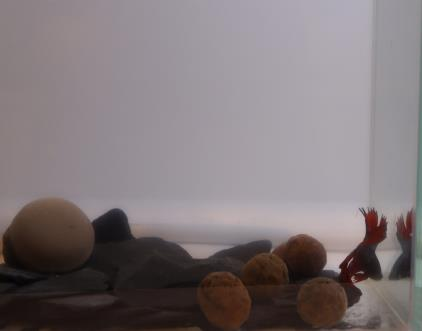fish: (337, 205, 388, 286)
